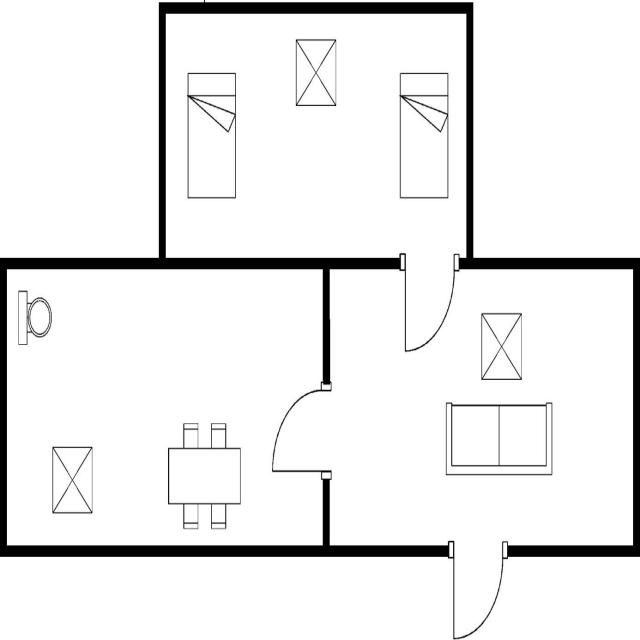bed: (184, 66, 240, 203), (397, 65, 450, 203)
coffee_table: (48, 440, 95, 519), (477, 307, 525, 383), (294, 34, 338, 111)
dining_table: (164, 417, 243, 533)
large_sink: (15, 285, 53, 349)
large_sofa: (441, 398, 556, 480)
